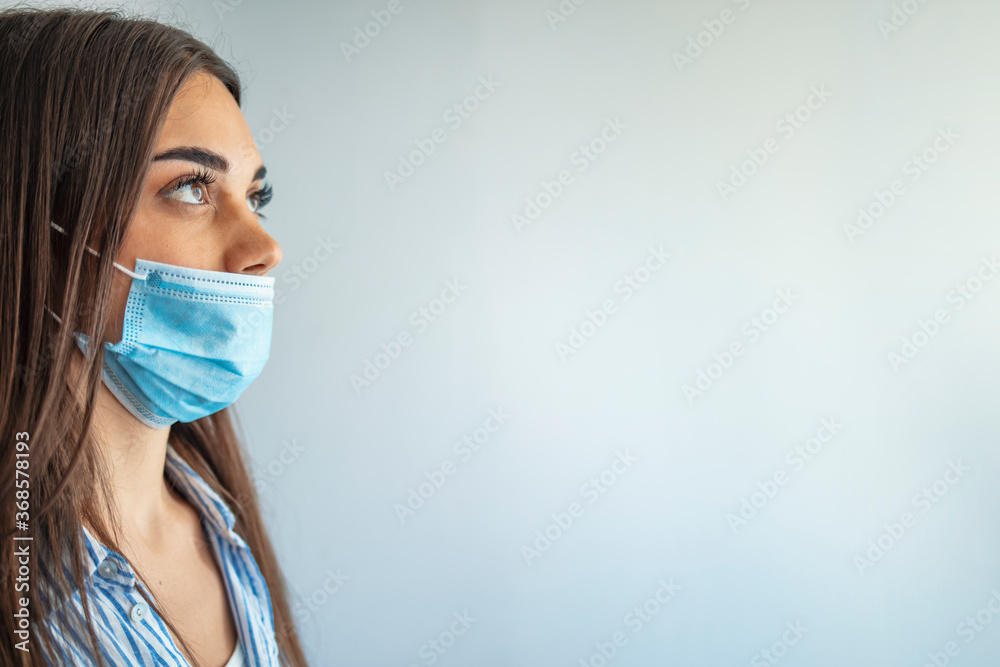mask_weared_incorrect: (83, 97, 287, 438)
